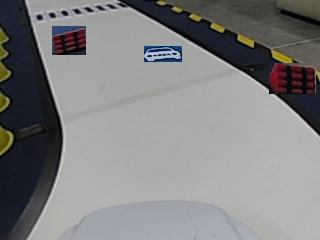crosswalk: (34, 2, 128, 22)
